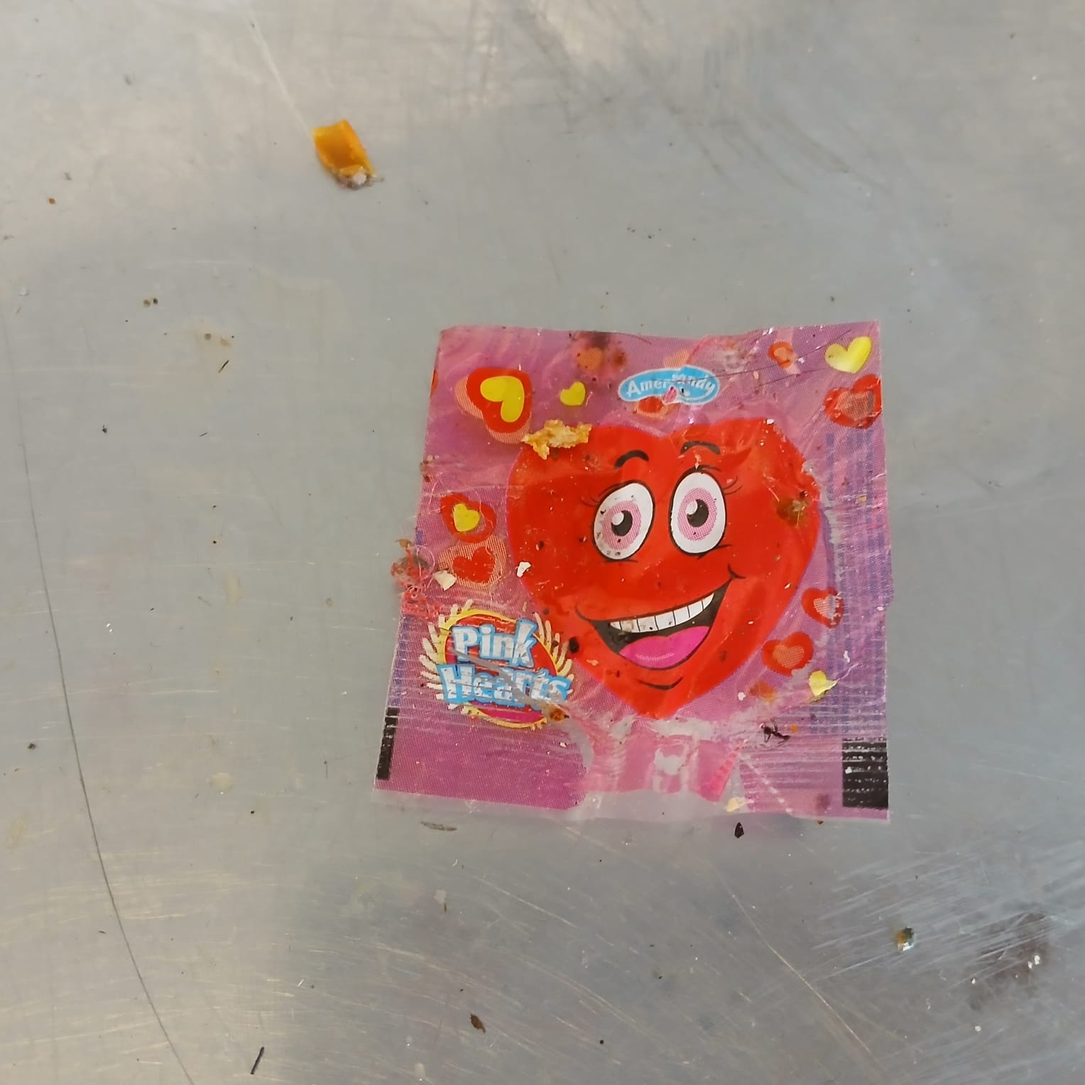Ordinario: (377, 321, 891, 822)
